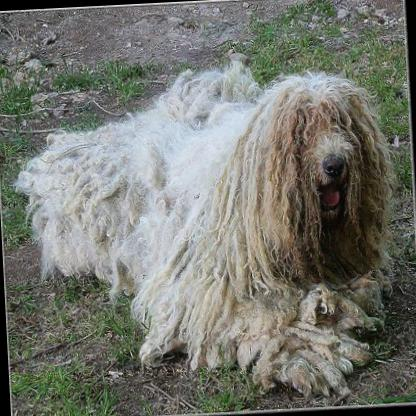komondor: (6, 48, 406, 412)
